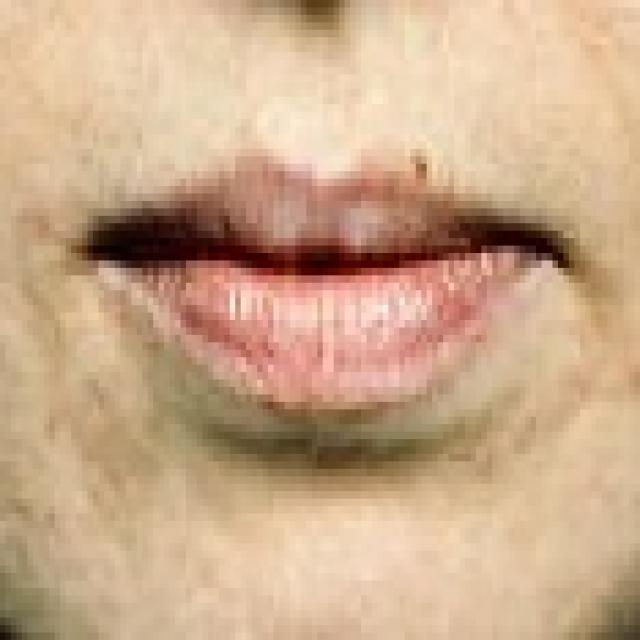closed-mouth: (71, 149, 574, 454)
